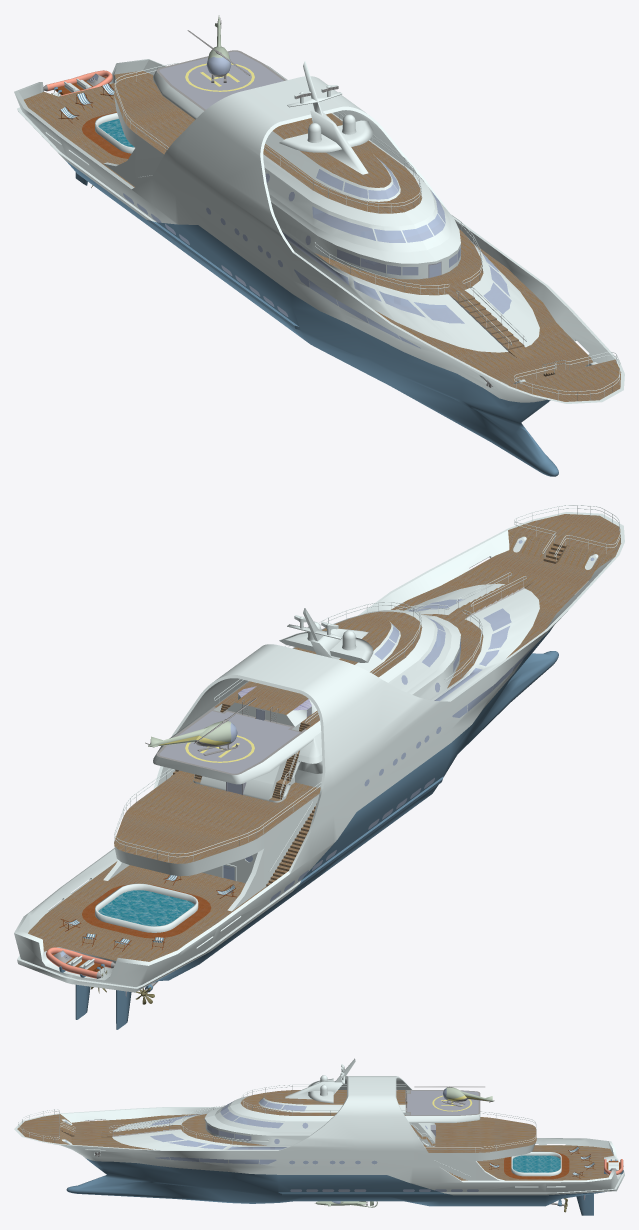
File: yatch.glb
The picture shows the model from 3 angles, top to bottom: view 1: azimuth 30°, elevation 25°; view 2: azimuth 150°, elevation 25°; view 3: azimuth 270°, elevation 25°; orthographic projection. The views are drawn at different scales.
Visible parts, largest first — view 1: Geom3D_4, Geom3D_7, Geom3D_8, Geom3D_6, Geom3D_14, Geom3D_11, Geom3D_19; view 2: Geom3D_4, Geom3D_7, Geom3D_8, Geom3D_14, Geom3D_6, Geom3D_17, Geom3D_11, Geom3D_19, Geom3D_24, Geom3D_32; view 3: Geom3D_4, Geom3D_8, Geom3D_7, Geom3D_6, Geom3D_14, Geom3D_17, Geom3D_11, Geom3D_19, Geom3D_24, Geom3D_23.
Boxes of the visible parts, x1,y1,x2,y2 form: Geom3D_4: (14, 59, 624, 403); Geom3D_7: (24, 71, 621, 401); Geom3D_8: (54, 83, 558, 476); Geom3D_6: (93, 56, 511, 348); Geom3D_14: (89, 51, 441, 277); Geom3D_11: (53, 76, 131, 158); Geom3D_19: (43, 18, 491, 387); Geom3D_4: (14, 505, 624, 992); Geom3D_7: (28, 514, 621, 961); Geom3D_8: (59, 626, 558, 1029); Geom3D_14: (64, 707, 311, 996); Geom3D_6: (60, 540, 594, 956); Geom3D_17: (98, 890, 194, 926); Geom3D_11: (52, 874, 236, 971); Geom3D_19: (53, 698, 306, 991); Geom3D_24: (148, 721, 231, 747); Geom3D_32: (46, 947, 112, 978); Geom3D_4: (14, 1058, 624, 1195); Geom3D_8: (66, 1146, 623, 1215); Geom3D_7: (17, 1090, 613, 1180); Geom3D_6: (65, 1088, 478, 1203); Geom3D_14: (205, 1090, 585, 1200); Geom3D_17: (512, 1155, 560, 1172); Geom3D_11: (489, 1146, 620, 1179); Geom3D_19: (95, 1086, 617, 1205); Geom3D_24: (315, 1087, 493, 1207); Geom3D_23: (432, 1095, 488, 1111).
Size of the model in its own units: 26.18 by 41.75 by 153.
Materials: 30 (16 with a texture image).
